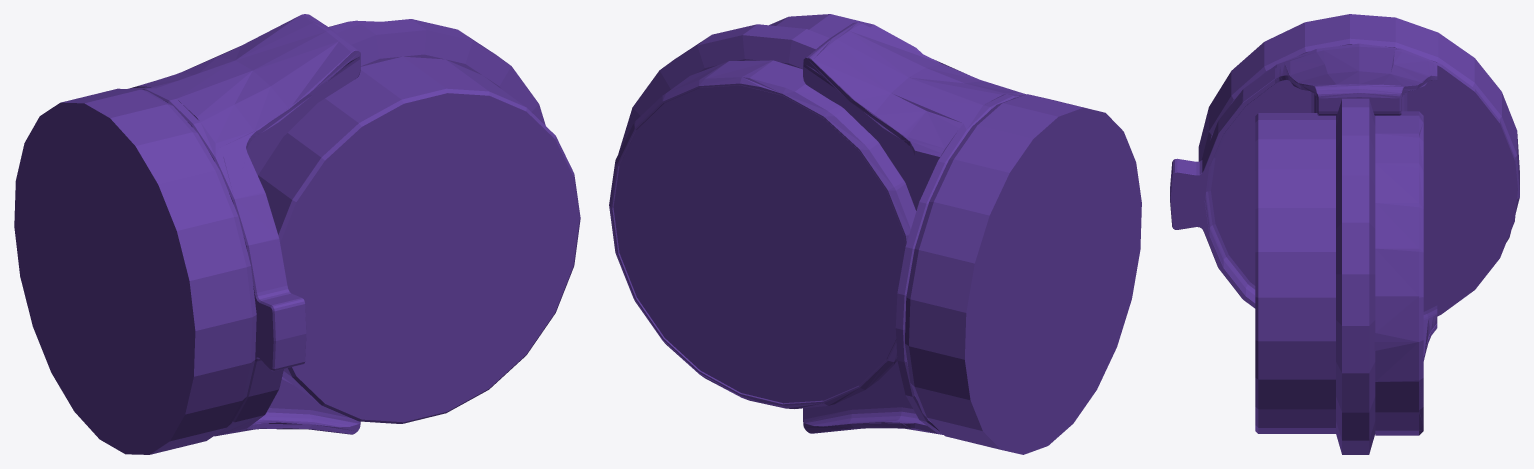
Rendered from b2_description_FL_hip_visuals_FL_hip_mesh.obj.
3 views of the same model, side by side, from view 1: azimuth 30°, elevation 25°; view 2: azimuth 150°, elevation 25°; view 3: azimuth 270°, elevation 25° (orthographic). The views are drawn at different scales.
Size of the model in its own units: 0.1499 by 0.1262 by 0.1165.
